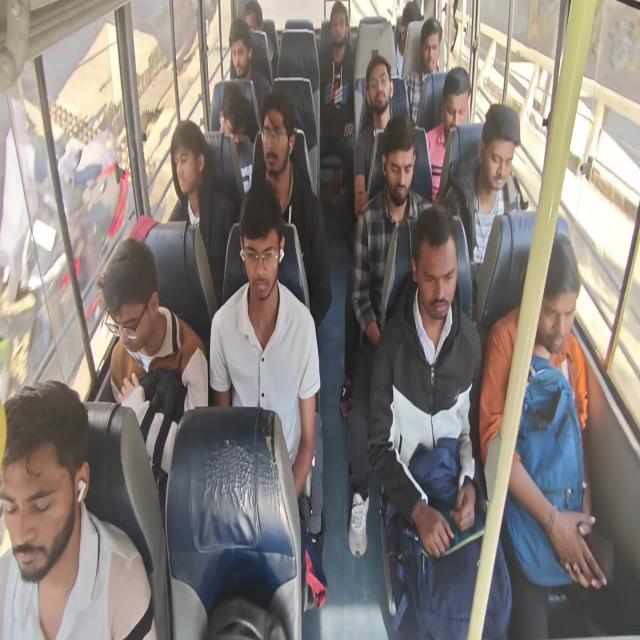person: (367, 203, 512, 638), (478, 232, 608, 638), (0, 378, 157, 638), (342, 113, 434, 556), (208, 179, 321, 506), (97, 237, 208, 512), (249, 91, 332, 330), (443, 102, 521, 280), (168, 120, 237, 306), (318, 2, 356, 203), (353, 55, 397, 219), (425, 66, 471, 201), (403, 17, 442, 124), (228, 18, 271, 115), (218, 84, 254, 194), (243, 0, 278, 81), (394, 1, 424, 77), (244, 0, 264, 31)
